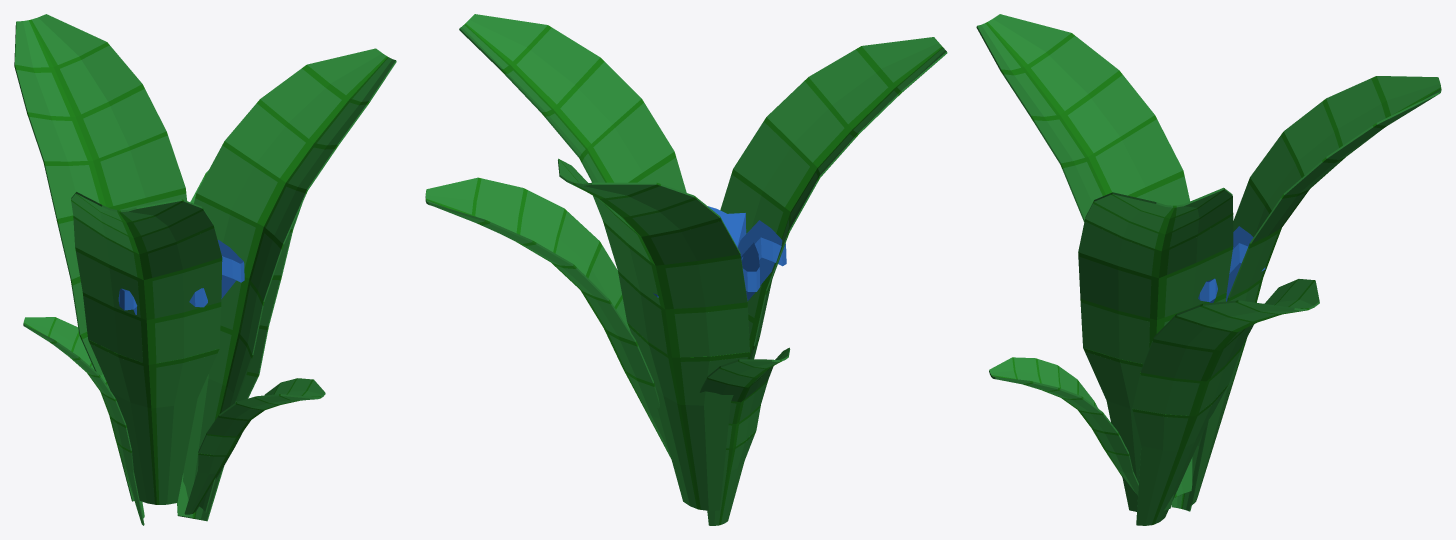
File: flower1.fbx
3 views of the same model, side by side, from view 1: azimuth 30°, elevation 25°; view 2: azimuth 150°, elevation 25°; view 3: azimuth 270°, elevation 25° (orthographic). The views are drawn at different scales.
Visible parts, largest first — view 1: Sphere; view 2: Sphere; view 3: Sphere.
Part boxes in pixels (left/top/right/bottom): Sphere: left=14, top=14, right=396, bottom=525; Sphere: left=425, top=14, right=947, bottom=525; Sphere: left=976, top=14, right=1441, bottom=525.
Bounding box in the file's own units: 207 × 220 × 215.
